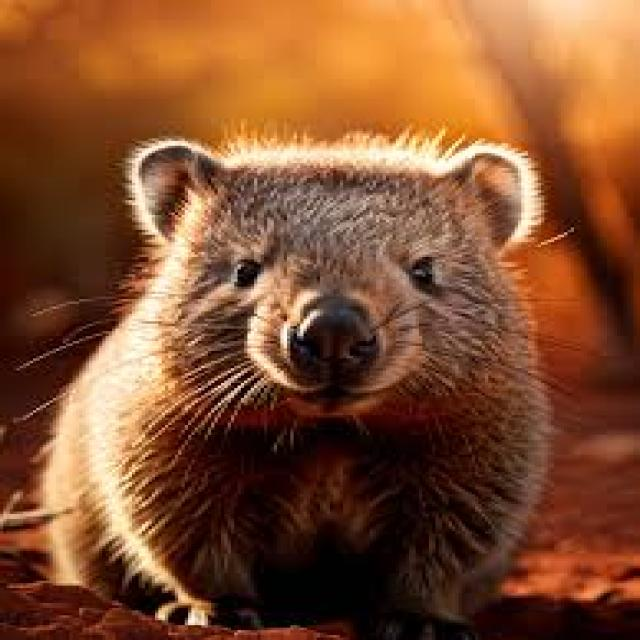Wombat: (53, 133, 552, 628)
